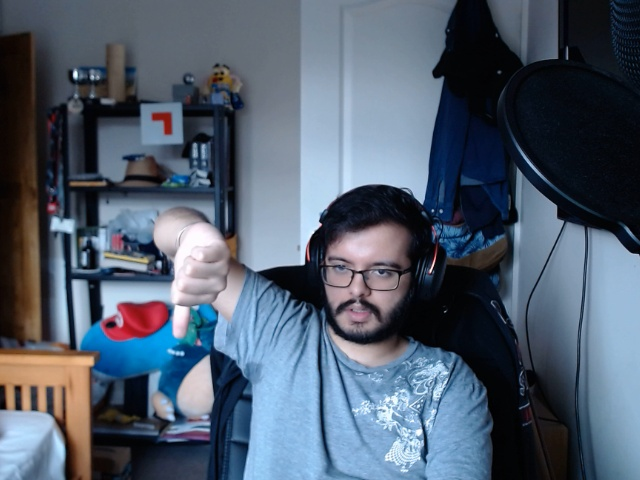Thumbs down: (154, 209, 244, 350)
